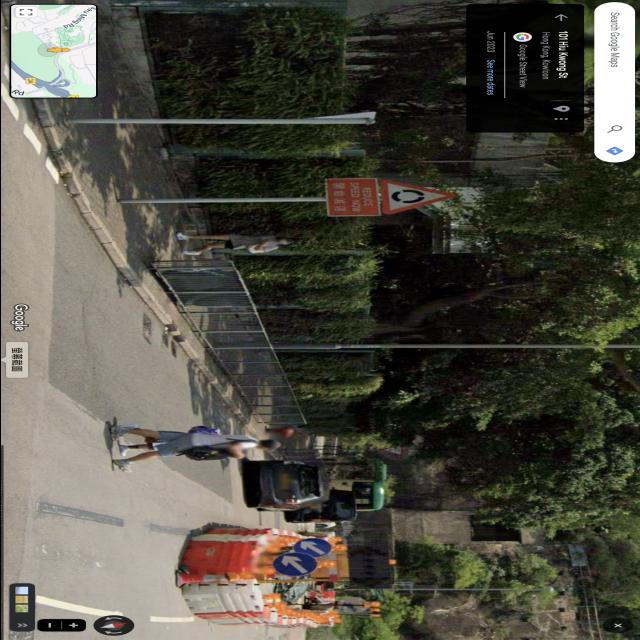Order-Sign: (278, 557, 312, 573), (296, 542, 326, 556), (383, 445, 403, 455)
Warning-Sign: (382, 180, 456, 215), (328, 179, 374, 217)
